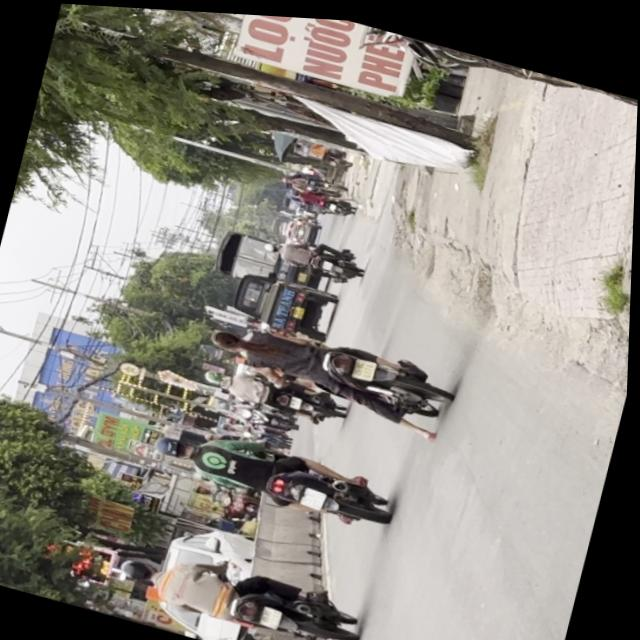helmet: (154, 430, 199, 460), (120, 554, 163, 585)
licenseplate: (201, 300, 461, 432), (144, 411, 402, 533), (114, 533, 372, 640)
motorcyclist: (212, 323, 249, 350)
nohelmet: (302, 481, 330, 507), (261, 600, 286, 625), (354, 352, 378, 377)
